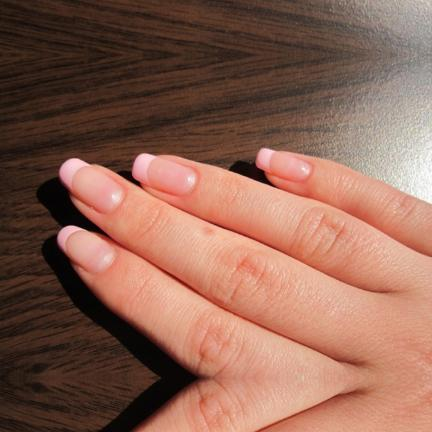Nail: (59, 157, 124, 213), (57, 225, 116, 273), (132, 152, 197, 195), (255, 147, 312, 181)
